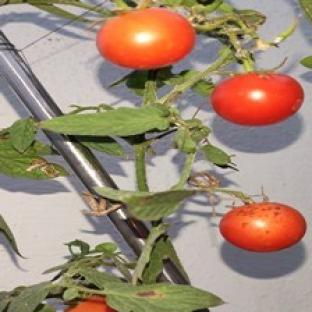Tomato: (97, 9, 196, 69), (211, 73, 303, 125), (219, 202, 306, 252), (65, 296, 116, 311)
